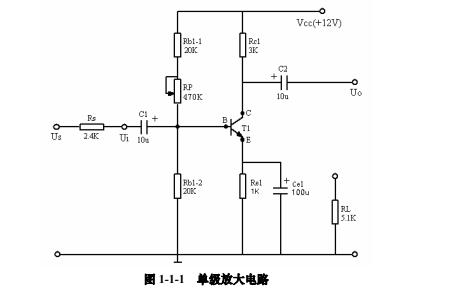cap1: (270, 184, 290, 198), (137, 118, 151, 137), (278, 73, 291, 93)
res1: (76, 121, 107, 133), (171, 171, 183, 202), (237, 29, 249, 60), (237, 169, 248, 201), (171, 76, 183, 104), (172, 30, 183, 60), (330, 197, 340, 227)
triode: (225, 111, 247, 144)
